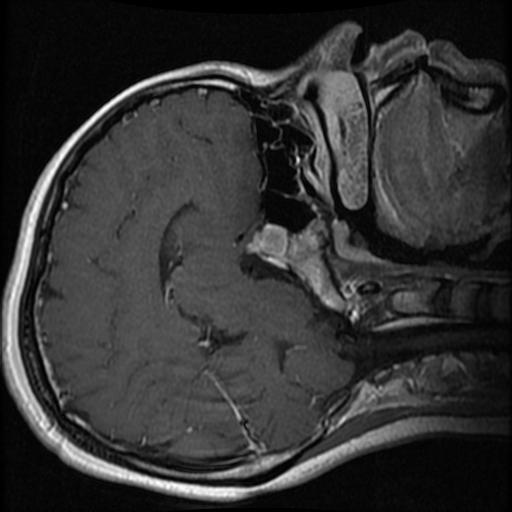pituitary tumour: (246, 223, 288, 258)
